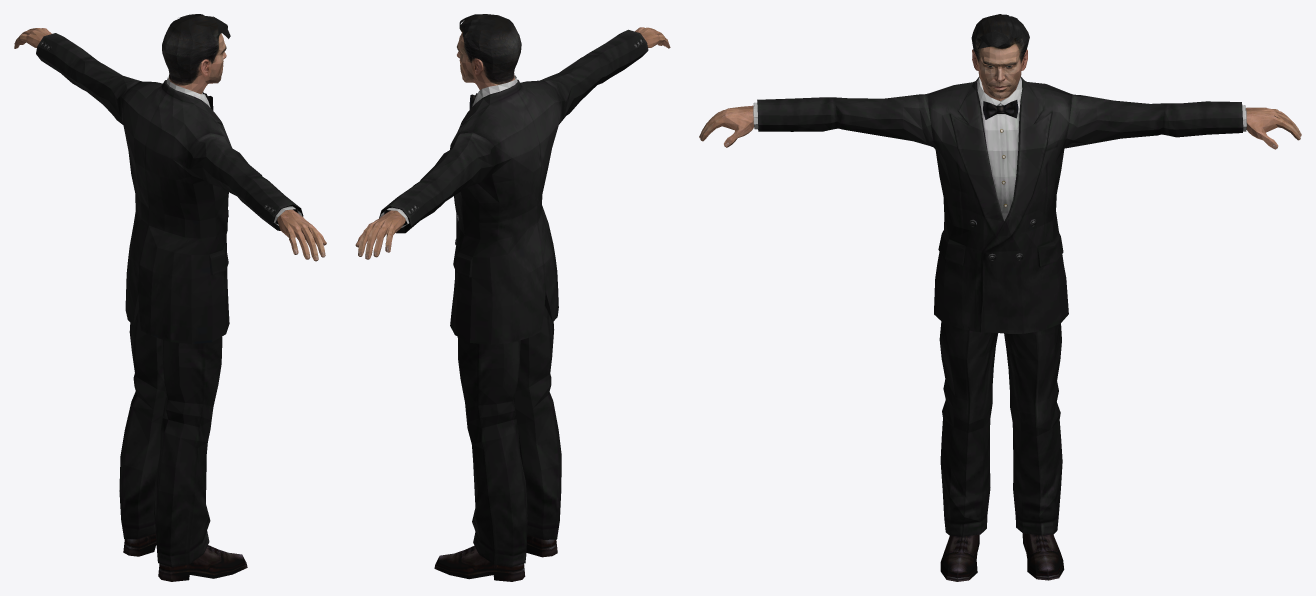
The model's file is P.Brosnan Tuxedo.obj.
The picture shows the model from 3 angles, left to right: view 1: azimuth 30°, elevation 25°; view 2: azimuth 150°, elevation 25°; view 3: azimuth 270°, elevation 25°; orthographic projection.
Visible parts, largest first — view 1: Object.001_Mesh.001_M, 00.003_Mesh.006_Mater, Object.002_Mesh.002_M; view 2: Object.001_Mesh.001_M, 00.003_Mesh.006_Mater, Object.002_Mesh.002_M; view 3: Object.001_Mesh.001_M, 00.003_Mesh.006_Mater, Object.002_Mesh.002_M.
Part boxes in pixels (left/top/right/bottom): Object.001_Mesh.001_M: left=36, top=33, right=303, bottom=581; 00.003_Mesh.006_Mater: left=162, top=15, right=226, bottom=94; Object.002_Mesh.002_M: left=14, top=28, right=326, bottom=261; Object.001_Mesh.001_M: left=379, top=29, right=648, bottom=581; 00.003_Mesh.006_Mater: left=457, top=14, right=521, bottom=89; Object.002_Mesh.002_M: left=355, top=27, right=670, bottom=259; Object.001_Mesh.001_M: left=757, top=76, right=1243, bottom=581; 00.003_Mesh.006_Mater: left=971, top=14, right=1029, bottom=101; Object.002_Mesh.002_M: left=699, top=102, right=1301, bottom=149.
Size of the model in its own units: 0.3268 by 1.86 by 1.85.
8 materials, 8 textured.
